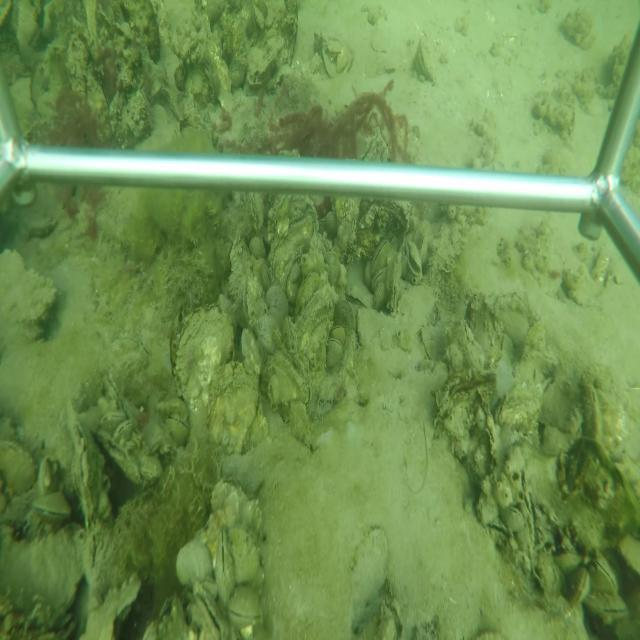Oyster-Closed: (173, 300, 236, 444), (64, 398, 111, 533), (209, 360, 259, 462), (292, 282, 336, 392), (270, 210, 317, 291), (210, 527, 237, 605), (102, 363, 133, 424), (515, 465, 536, 552), (227, 584, 262, 625), (591, 551, 622, 594), (582, 380, 604, 439), (593, 596, 632, 627), (415, 33, 436, 84), (386, 252, 402, 315), (344, 281, 372, 309), (335, 297, 355, 333), (372, 238, 392, 270), (100, 409, 125, 428), (110, 421, 133, 439), (372, 282, 386, 311)
Oyster-Indeterminate: (1, 520, 86, 617), (246, 34, 287, 90)
Oyster-Open: (192, 582, 227, 640), (404, 239, 423, 275)
